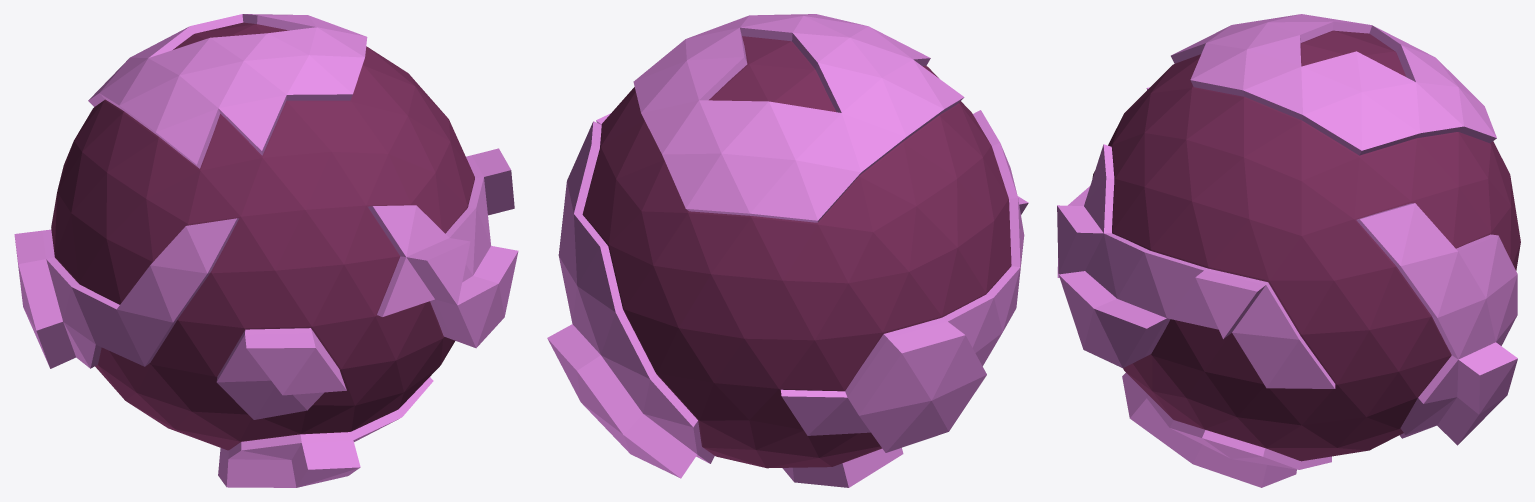
The model's file is Planeta_6.fbx.
3 renders of one model, left to right at view 1: azimuth 30°, elevation 25°; view 2: azimuth 150°, elevation 25°; view 3: azimuth 270°, elevation 25°, orthographic. The views are drawn at different scales.
Parts seen in each view (by area): view 1: Icosphere.012, Icosphere.005; view 2: Icosphere.012, Icosphere.005; view 3: Icosphere.012, Icosphere.005.
Part boxes in pixels (x1,y1,x2,y2): Icosphere.012: [51, 22, 474, 450]; Icosphere.005: [14, 14, 518, 487]; Icosphere.012: [582, 36, 1011, 468]; Icosphere.005: [547, 14, 1028, 487]; Icosphere.012: [1092, 30, 1520, 461]; Icosphere.005: [1057, 14, 1517, 487].
Bounding box in the file's own units: 2377 × 2351 × 2251.
